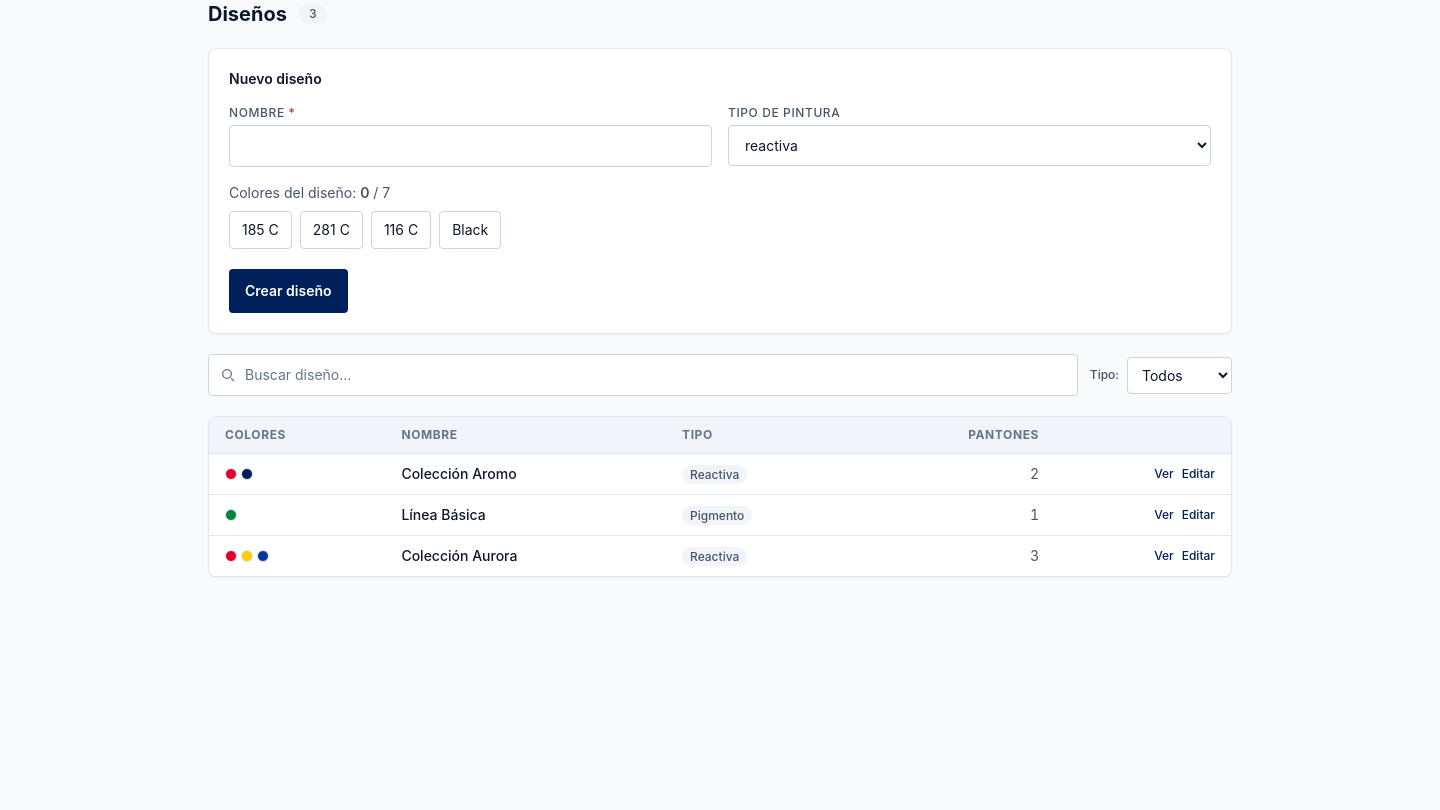
Test: DesignsPage › cancels the dialog without creating anything
The width and height of the screenshot is (1440, 810).
In the field labelled "Nombre *": (470, 146) [229,125,712,167], type "Colección Nueva"
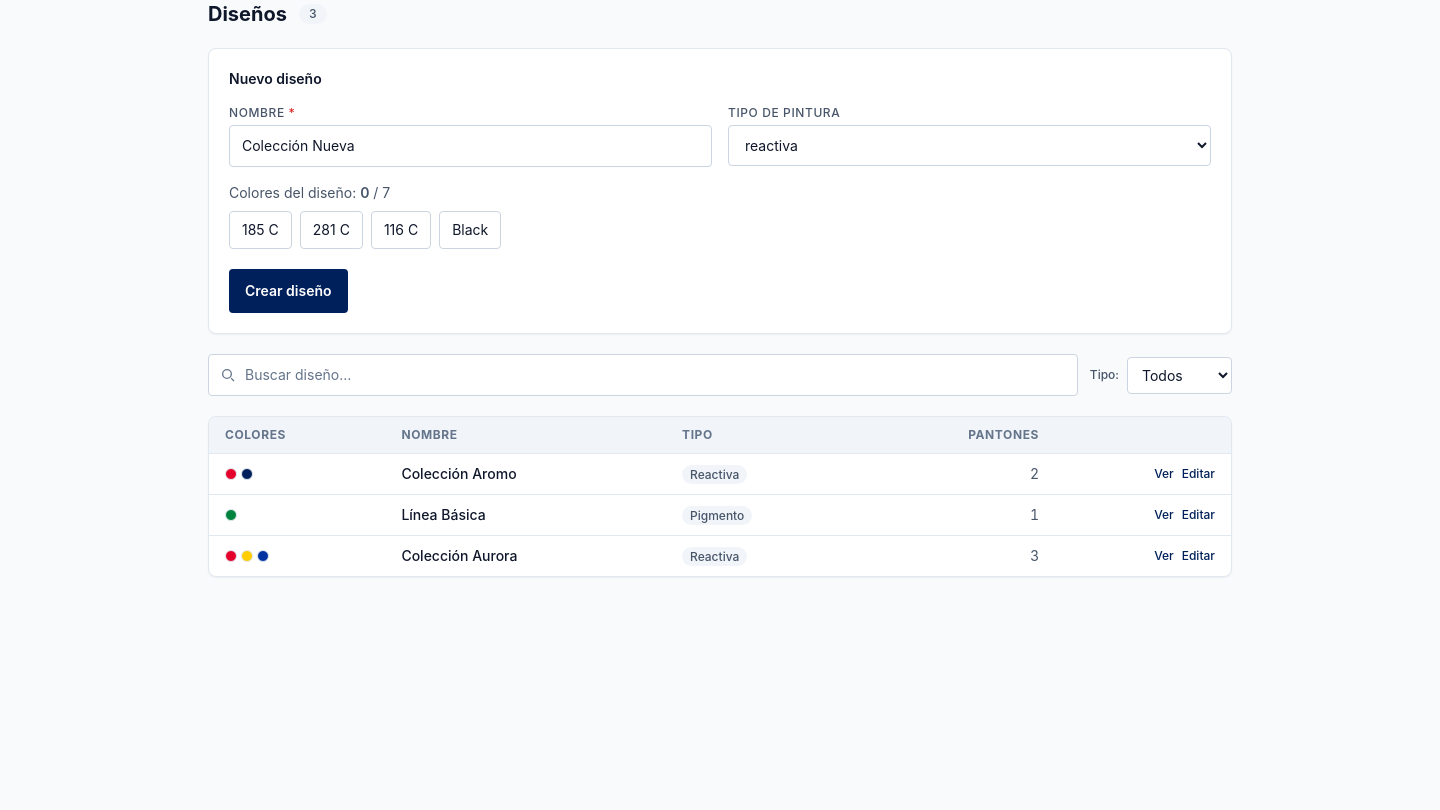
Click the button "Crear diseño": click(288, 291) [229,269,348,313]
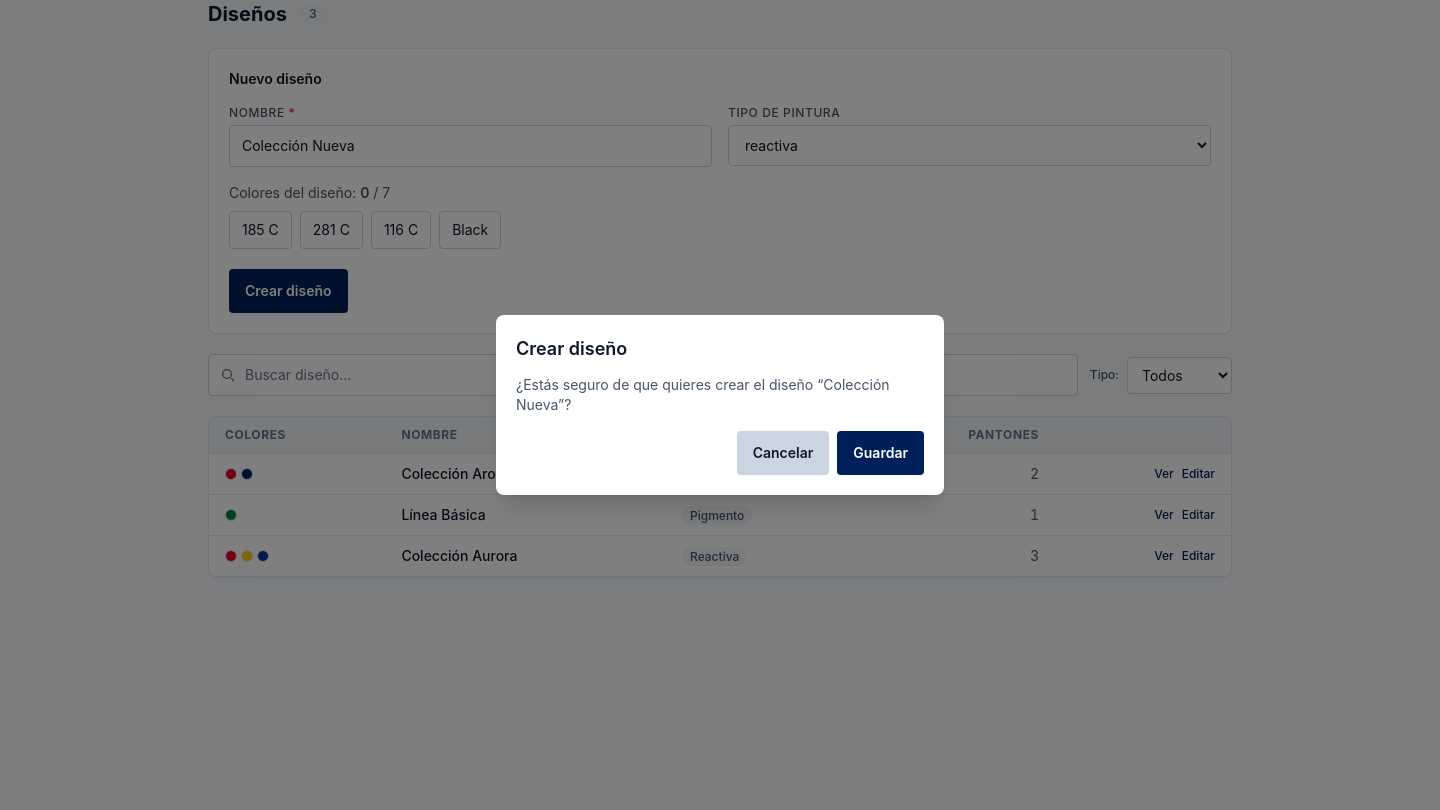
Click the button "Cancelar": click(783, 453) [737,431,829,475]
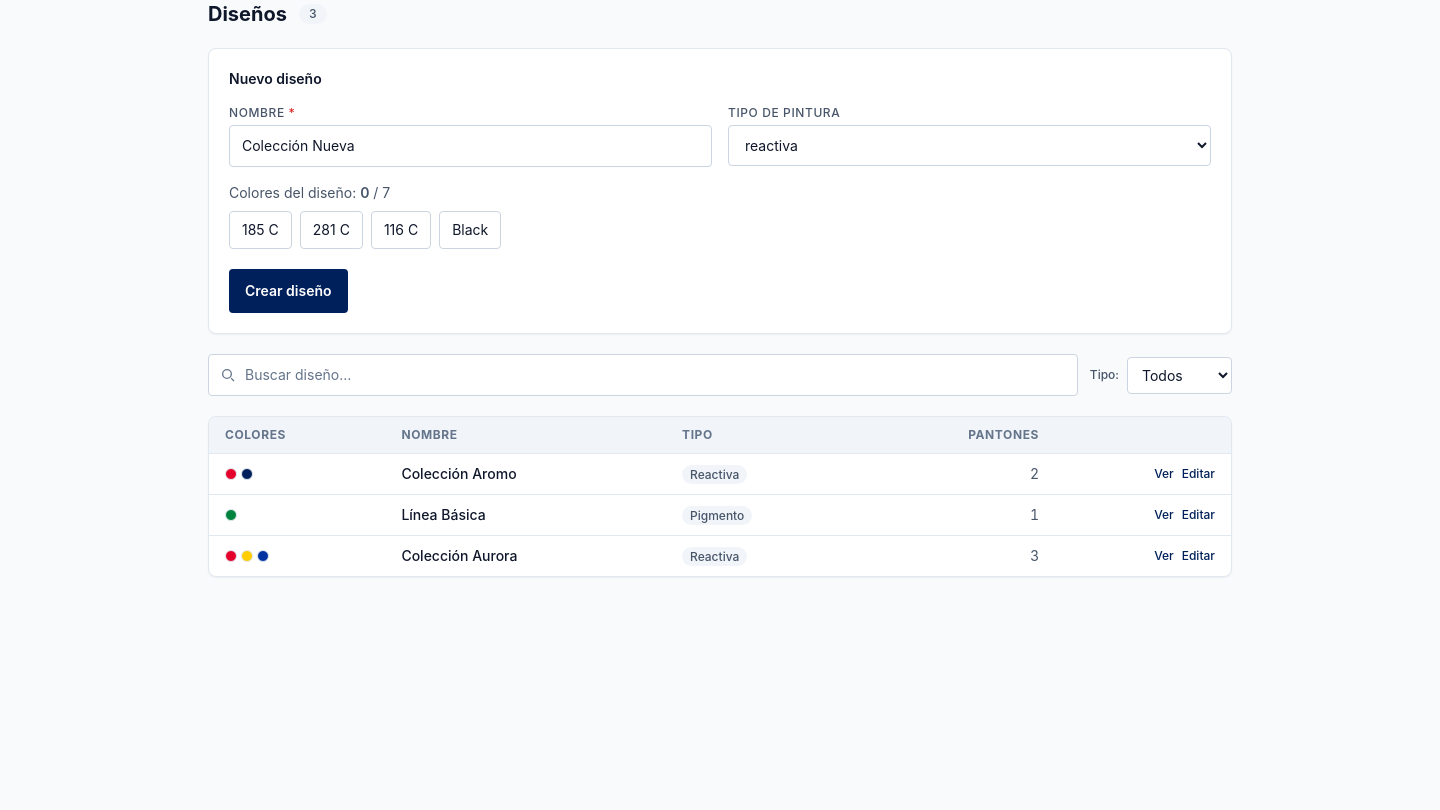
Result: the dialog is gone
